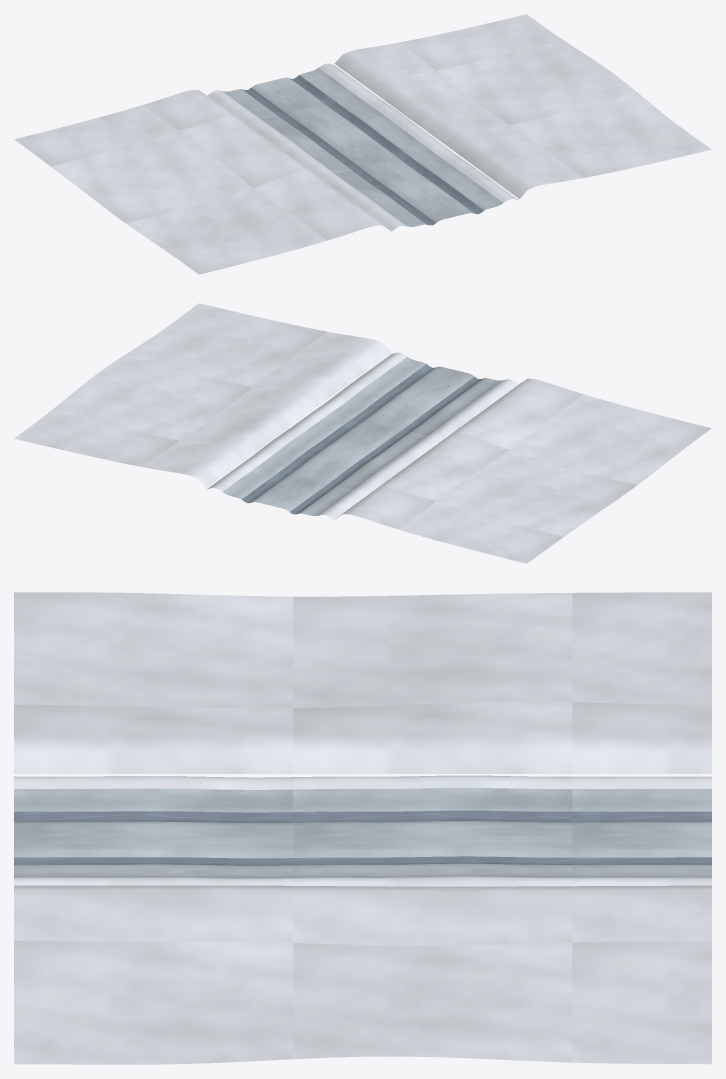
The model's file is SnowRoad_10m_Temp.fbx.
3 views of the same model, one above another, from view 1: azimuth 30°, elevation 25°; view 2: azimuth 150°, elevation 25°; view 3: azimuth 270°, elevation 25° (orthographic). The views are drawn at different scales.
Parts seen in each view (by area): view 1: SnowTerrain_Right_10m.001, SnowTerrain_Left_10m.001, SnowRoad_10m; view 2: SnowTerrain_Right_10m.001, SnowTerrain_Left_10m.001, SnowRoad_10m; view 3: SnowTerrain_Left_10m.001, SnowTerrain_Right_10m.001, SnowRoad_10m.
Part boxes in pixels (box(x1,y1,x2,y2)): SnowTerrain_Right_10m.001: box(334, 14, 711, 198); SnowTerrain_Left_10m.001: box(14, 89, 388, 274); SnowRoad_10m: box(207, 63, 518, 231); SnowTerrain_Right_10m.001: box(14, 303, 391, 487); SnowTerrain_Left_10m.001: box(337, 378, 711, 563); SnowRoad_10m: box(207, 352, 518, 520); SnowTerrain_Left_10m.001: box(14, 592, 711, 773); SnowTerrain_Right_10m.001: box(14, 885, 711, 1064); SnowRoad_10m: box(14, 775, 711, 886).
Size of the model in its own units: 16 by 0.4437 by 10.
Materials: 3 (3 with a texture image).
